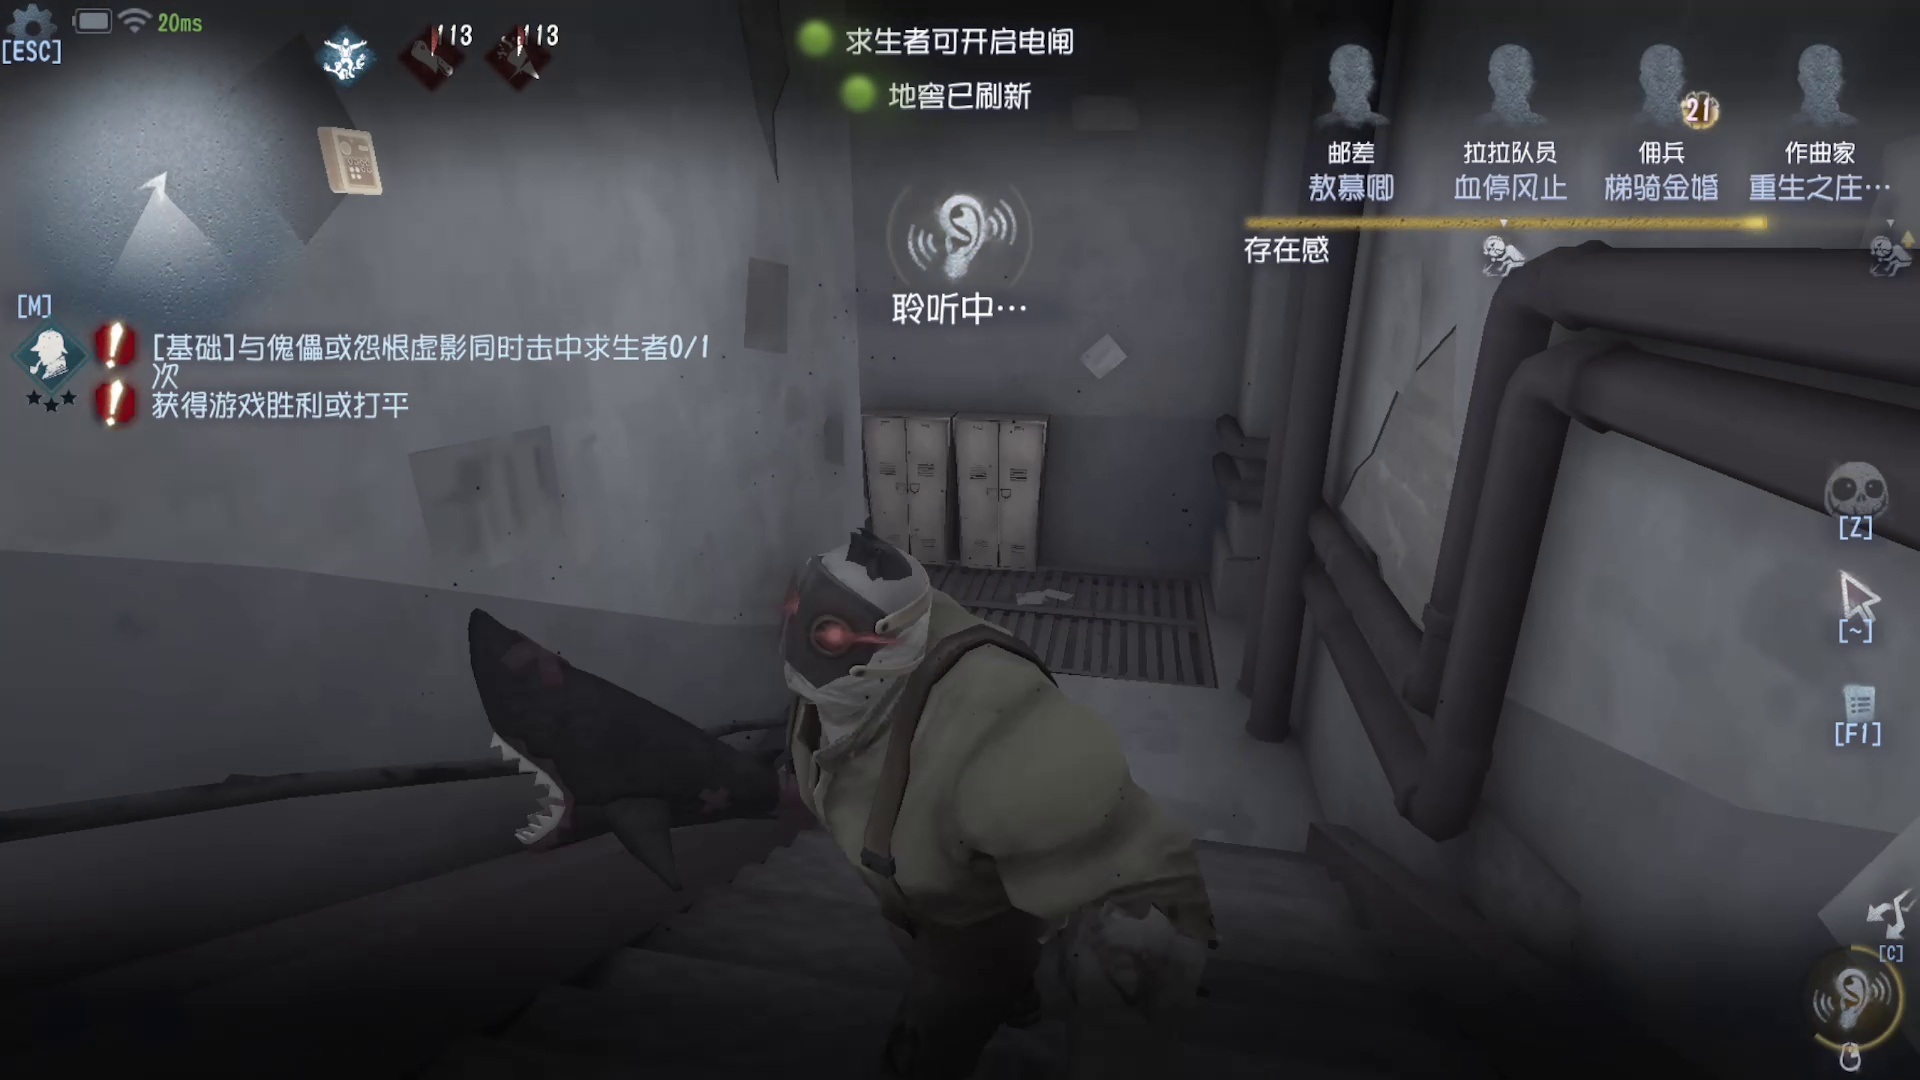设置: (1, 1, 87, 80)
